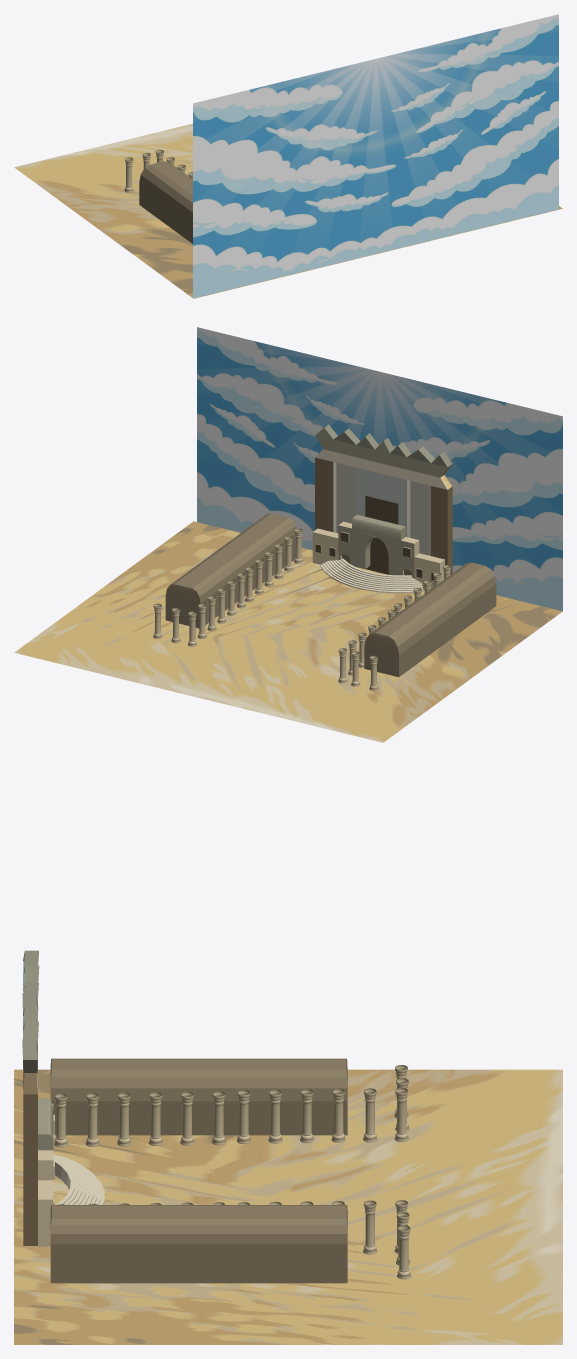
Rendered from beit hamikdashd (1).fbx.
The picture shows the model from 3 angles, top to bottom: view 1: azimuth 30°, elevation 25°; view 2: azimuth 150°, elevation 25°; view 3: azimuth 270°, elevation 25°; orthographic projection. The views are drawn at different scales.
Visible parts, largest first — view 1: Plane, Plane.001, Cube.005; view 2: Plane, Plane.001, Cube.003, Cube.005, Cube.004, Cube.002, Cube.001, Cube, Cylinder.001, Cylinder.002, Cylinder.004, Cylinder.003 (+1 smaller); view 3: Plane.001, Cube.004, Cube.005, Cube.003, Cylinder.003, Cylinder.004, Cube, Cube.002, Cylinder.002, Cube.001, Cylinder.005.
Boxes of the visible parts, x1=… form: Plane: x1=193, y1=14, x2=558, y2=298; Plane.001: x1=14, y1=123, x2=562, y2=298; Cube.005: x1=139, y1=161, x2=192, y2=243; Plane: x1=197, y1=327, x2=562, y2=611; Plane.001: x1=14, y1=521, x2=562, y2=742; Cube.003: x1=315, y1=424, x2=452, y2=574; Cube.005: x1=364, y1=562, x2=496, y2=676; Cube.004: x1=165, y1=513, x2=296, y2=628; Cube.002: x1=312, y1=521, x2=444, y2=589; Cube.001: x1=352, y1=514, x2=405, y2=575; Cube: x1=320, y1=558, x2=423, y2=593; Cylinder.001: x1=245, y1=528, x2=302, y2=602; Cylinder.002: x1=188, y1=573, x2=245, y2=646; Cylinder.004: x1=338, y1=609, x2=395, y2=683; Cylinder.003: x1=394, y1=564, x2=451, y2=614; Plane.001: x1=14, y1=1069, x2=562, y2=1344; Cube.004: x1=50, y1=1205, x2=347, y2=1283; Cube.005: x1=50, y1=1058, x2=347, y2=1135; Cube.003: x1=22, y1=950, x2=39, y2=1245; Cylinder.003: x1=54, y1=1091, x2=225, y2=1147; Cylinder.004: x1=236, y1=1088, x2=408, y2=1143; Cube: x1=53, y1=1155, x2=104, y2=1204; Cube.002: x1=38, y1=1103, x2=54, y2=1246; Cylinder.002: x1=237, y1=1200, x2=408, y2=1254; Cube.001: x1=38, y1=1098, x2=53, y2=1150; Cylinder.005: x1=396, y1=1212, x2=410, y2=1279.
Size of the model in its own units: 12171 by 6269 by 10249.
